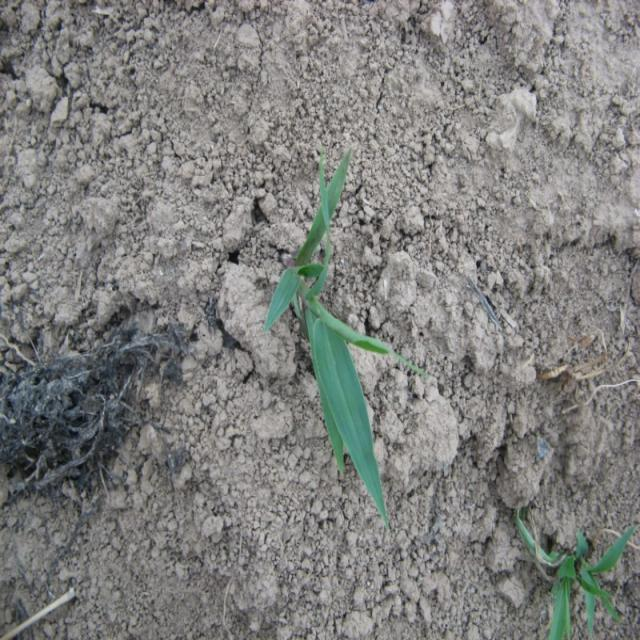bg: (266, 143, 403, 526)
